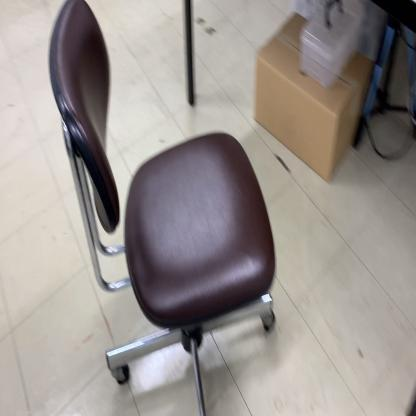chair: (44, 1, 280, 416)
